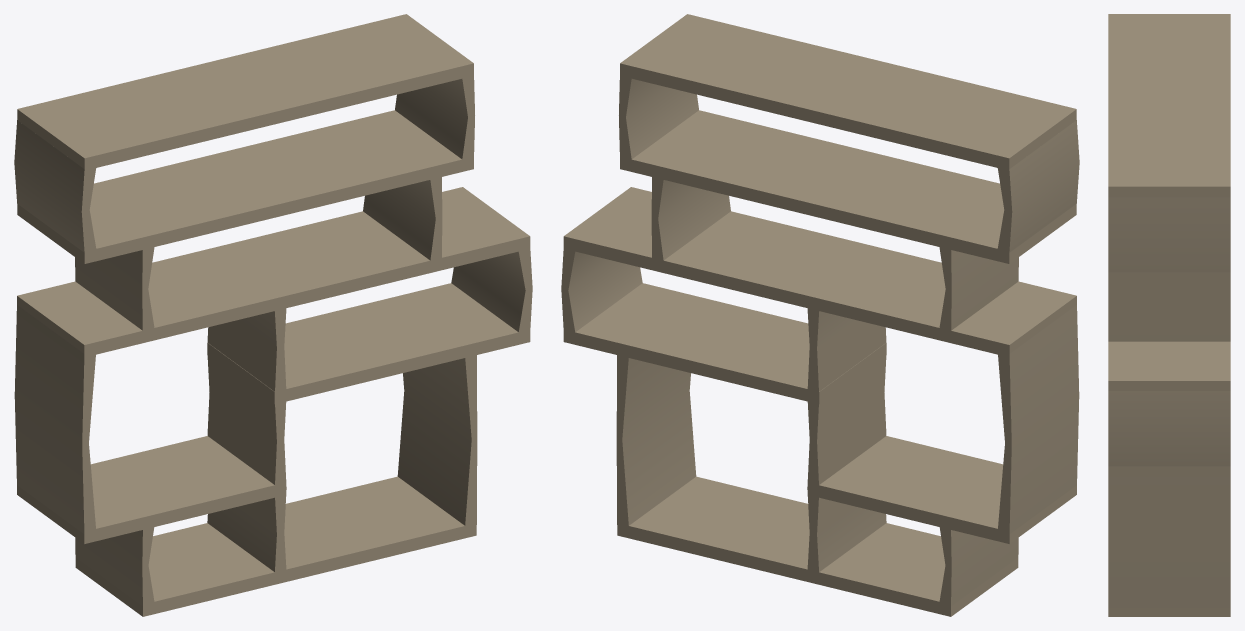
File: BookShelf.glb
3 views of the same model, side by side, from view 1: azimuth 30°, elevation 25°; view 2: azimuth 150°, elevation 25°; view 3: azimuth 270°, elevation 25° (orthographic). The views are drawn at different scales.
Parts seen in each view (by area): view 1: pCube56, pCube46, pCube47, pCube43, pCube45, pCube50, pCube52, pCube49, pCube51, pCube58, pCube53, pCube57 (+3 smaller); view 2: pCube56, pCube46, pCube47, pCube43, pCube45, pCube50, pCube52, pCube49, pCube51, pCube58, pCube53, pCube57 (+3 smaller); view 3: pCube56, pCube51, pCube53, pCube57, pCube55, pCube46, pCube45, pCube47, pCube43.
Boxes of the visible parts, left/top/right/bottom form: pCube56: left=17, top=14, right=473, bottom=170; pCube46: left=17, top=187, right=530, bottom=356; pCube47: left=17, top=110, right=473, bottom=263; pCube43: left=75, top=476, right=476, bottom=616; pCube45: left=207, top=283, right=530, bottom=404; pCube50: left=207, top=306, right=286, bottom=572; pCube52: left=14, top=305, right=96, bottom=534; pCube49: left=17, top=436, right=280, bottom=543; pCube51: left=397, top=351, right=477, bottom=527; pCube58: left=14, top=120, right=96, bottom=252; pCube53: left=451, top=247, right=532, bottom=334; pCube57: left=395, top=74, right=474, bottom=159; pCube56: left=620, top=14, right=1076, bottom=170; pCube46: left=563, top=187, right=1076, bottom=357; pCube47: left=620, top=110, right=1076, bottom=263; pCube43: left=617, top=476, right=1018, bottom=616; pCube45: left=563, top=283, right=886, bottom=404; pCube50: left=807, top=306, right=886, bottom=572; pCube52: left=997, top=305, right=1079, bottom=533; pCube49: left=813, top=436, right=1076, bottom=543; pCube51: left=616, top=352, right=696, bottom=527; pCube58: left=997, top=120, right=1079, bottom=252; pCube53: left=561, top=247, right=642, bottom=334; pCube57: left=619, top=74, right=698, bottom=159; pCube56: left=1108, top=14, right=1230, bottom=197; pCube51: left=1108, top=477, right=1230, bottom=608; pCube53: left=1108, top=391, right=1230, bottom=466; pCube57: left=1108, top=197, right=1230, bottom=272; pCube55: left=1108, top=282, right=1230, bottom=341; pCube46: left=1108, top=341, right=1230, bottom=390; pCube45: left=1108, top=466, right=1230, bottom=476; pCube47: left=1108, top=272, right=1230, bottom=282; pCube43: left=1108, top=608, right=1230, bottom=616.
Size of the model in its own units: 75.85 by 76 by 19.65.
